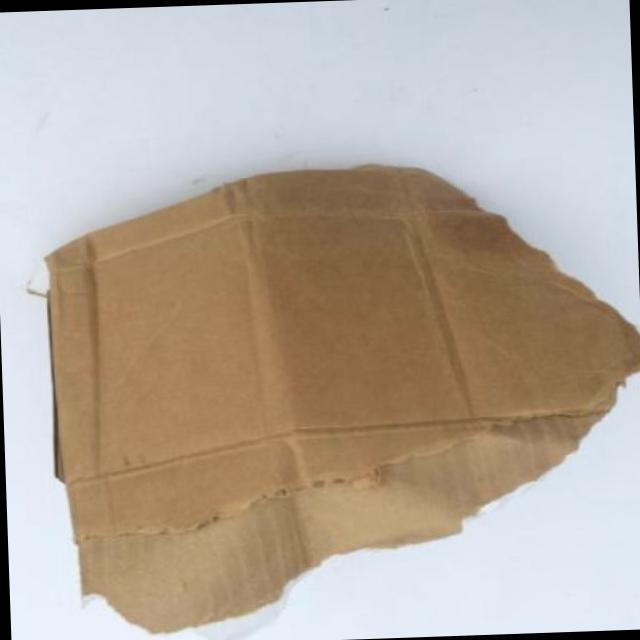cardboard paper: (45, 168, 640, 632)
